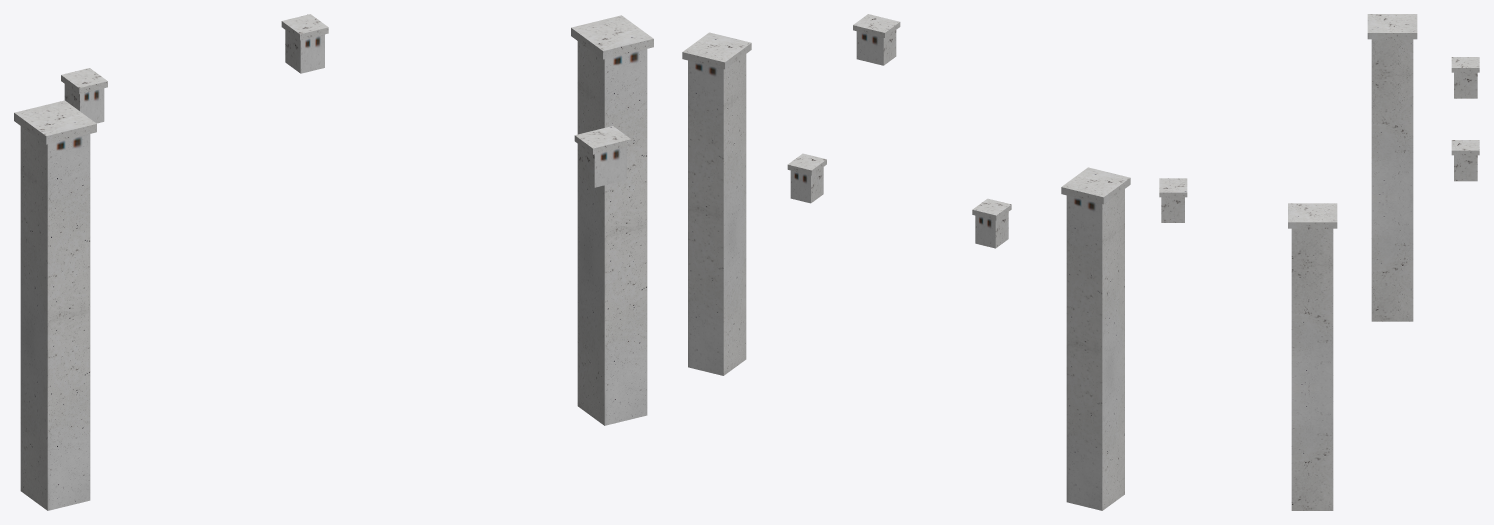
The model's file is chimeneas.FBX.
3 renders of one model, left to right at view 1: azimuth 30°, elevation 25°; view 2: azimuth 150°, elevation 25°; view 3: azimuth 270°, elevation 25°, orthographic. The views are drawn at different scales.
Visible parts, largest first — view 1: Chimeneas; view 2: Chimeneas; view 3: Chimeneas.
Boxes of the visible parts, <box> form: Chimeneas: <box>14,14,653,510</box>; Chimeneas: <box>682,14,1130,510</box>; Chimeneas: <box>1159,14,1479,510</box>.
Bounding box in the file's own units: 196 × 127 × 127.
1 material, 1 textured.
